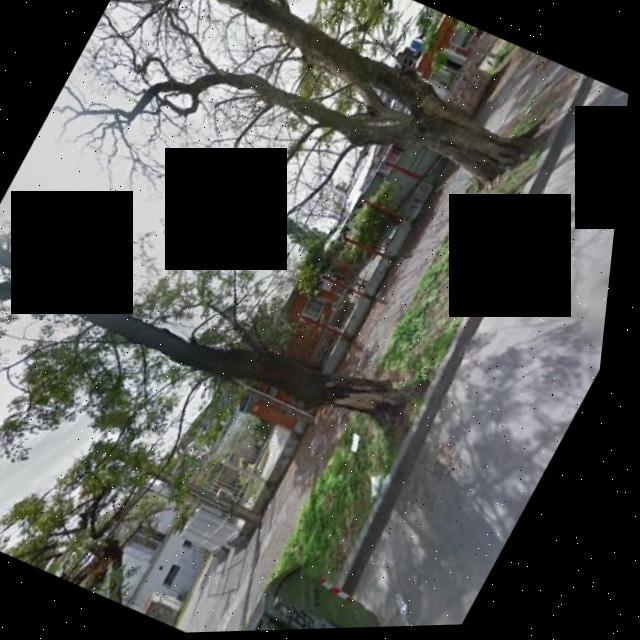bin: (242, 540, 484, 633)
